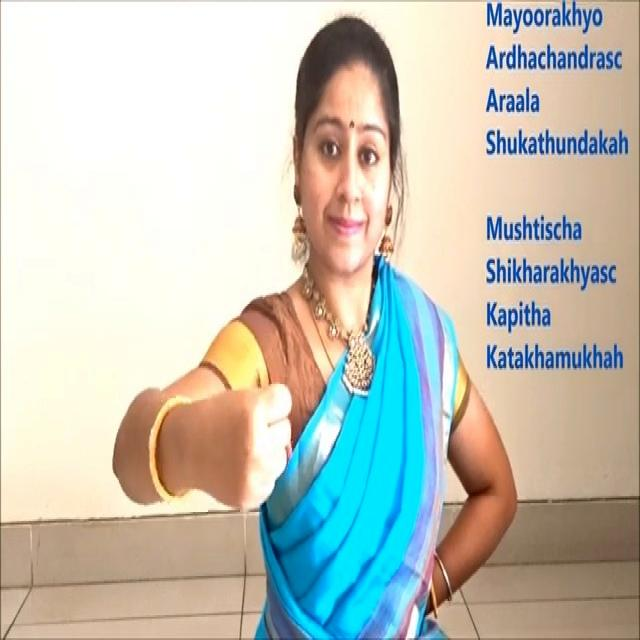Mushti: (218, 361, 304, 536)
lady: (278, 8, 418, 305)
text: (478, 0, 636, 173), (478, 212, 635, 381)
